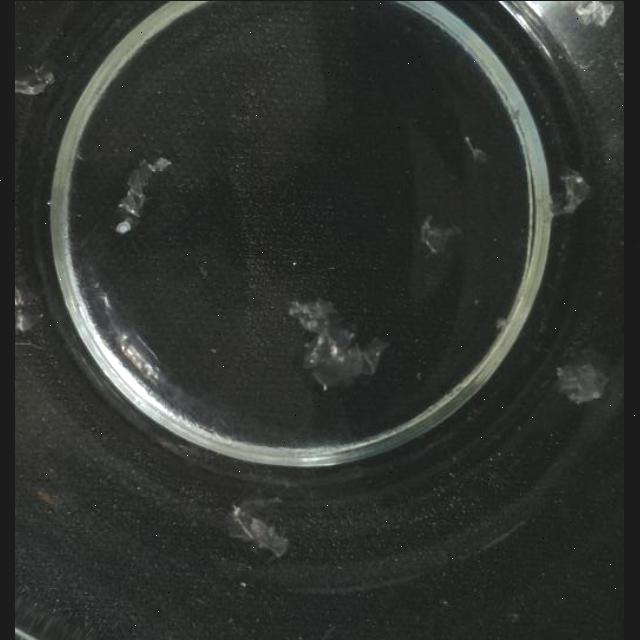Fibre: (112, 154, 174, 232), (226, 498, 290, 560), (552, 168, 594, 215), (420, 214, 462, 256), (16, 276, 44, 336), (16, 63, 56, 95), (574, 0, 616, 28), (465, 134, 489, 164), (495, 316, 509, 330)
Fragment: (292, 297, 388, 388), (556, 357, 610, 405)
